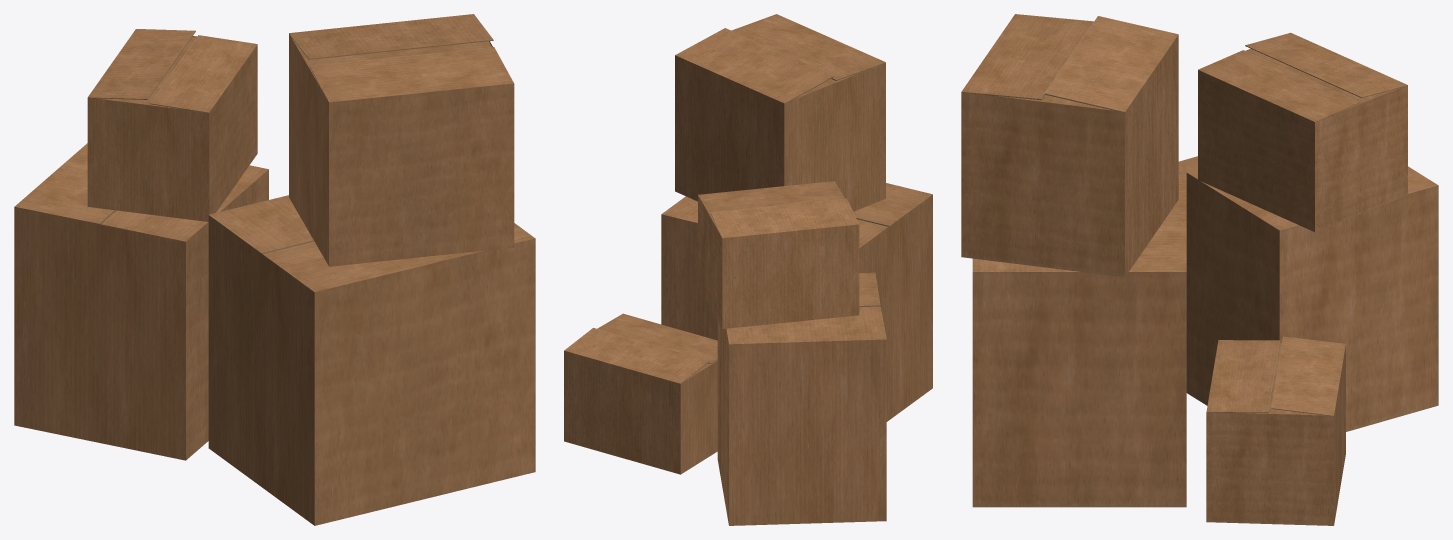
Rendered from Caixas_Cartao.fbx.
3 views of the same model, side by side, from view 1: azimuth 30°, elevation 25°; view 2: azimuth 150°, elevation 25°; view 3: azimuth 270°, elevation 25° (orthographic). The views are drawn at different scales.
Visible parts, largest first — view 1: Plane, Plane.002, Plane.001, Plane.003; view 2: Plane.001, Plane.002, Plane.003, Plane.004, Plane; view 3: Plane, Plane.002, Plane.001, Plane.003, Plane.004.
Part boxes in pixels (x1,y1,x2,y2): Plane: (208, 195, 535, 525); Plane.002: (289, 14, 514, 266); Plane.001: (14, 143, 268, 460); Plane.003: (87, 29, 257, 221); Plane.001: (717, 272, 886, 525); Plane.002: (675, 14, 885, 211); Plane.003: (698, 181, 859, 328); Plane.004: (564, 313, 717, 474); Plane: (661, 183, 932, 421); Plane: (972, 163, 1186, 507); Plane.002: (961, 14, 1178, 277); Plane.001: (1178, 156, 1438, 431); Plane.003: (1198, 32, 1407, 231); Plane.004: (1206, 336, 1345, 525).
Size of the model in its own units: 107 by 108 by 114.
